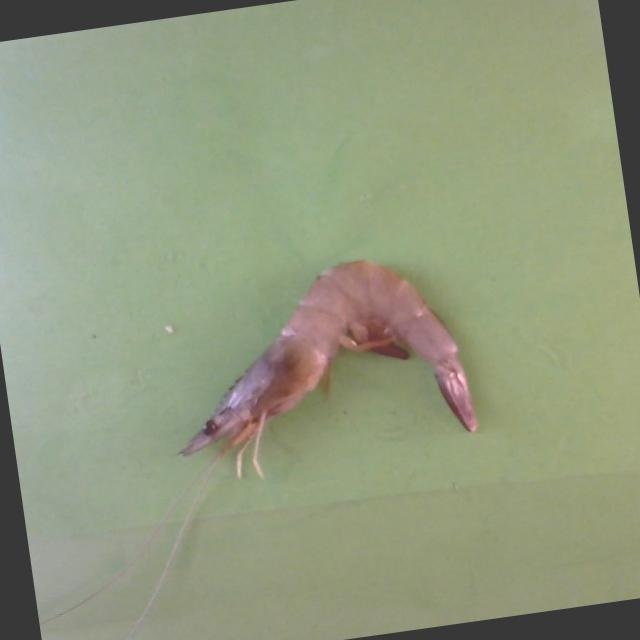shrimp: (180, 261, 479, 457)
